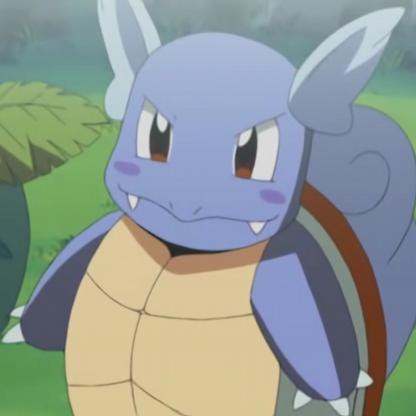Wartortle: (10, 1, 416, 416)
